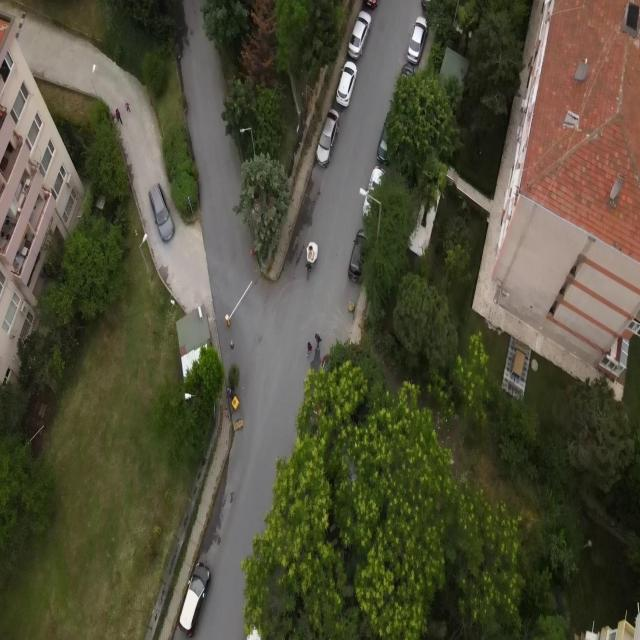p3rson: (314, 330, 323, 350), (115, 107, 123, 127), (305, 260, 312, 281), (306, 340, 313, 360), (125, 100, 131, 112)
